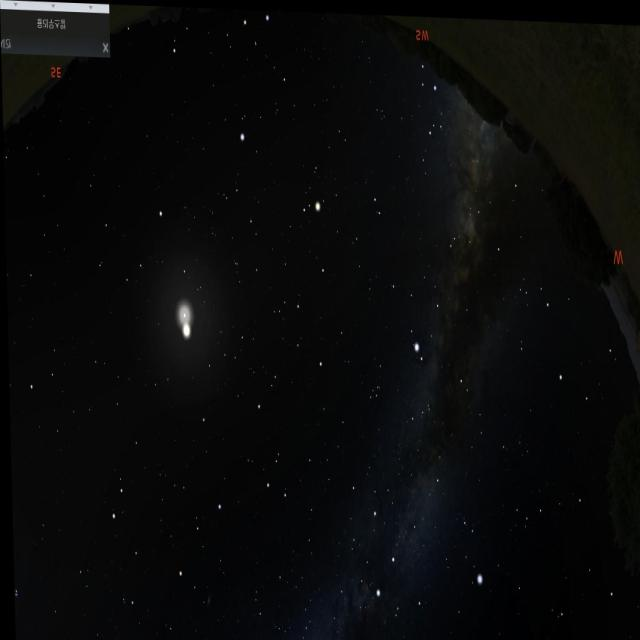aquila: (383, 225, 462, 372)
cygnus: (364, 456, 448, 608)
lyra: (458, 496, 483, 586)
moon: (158, 277, 210, 345)
